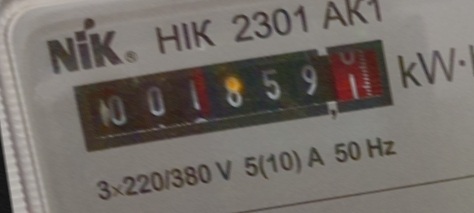0: (105, 91, 129, 129), (143, 83, 168, 119)
1: (187, 76, 203, 113), (345, 69, 362, 101)
5: (259, 65, 284, 103)
8: (221, 73, 246, 110)
9: (298, 61, 322, 98)
screen: (61, 25, 406, 165)
